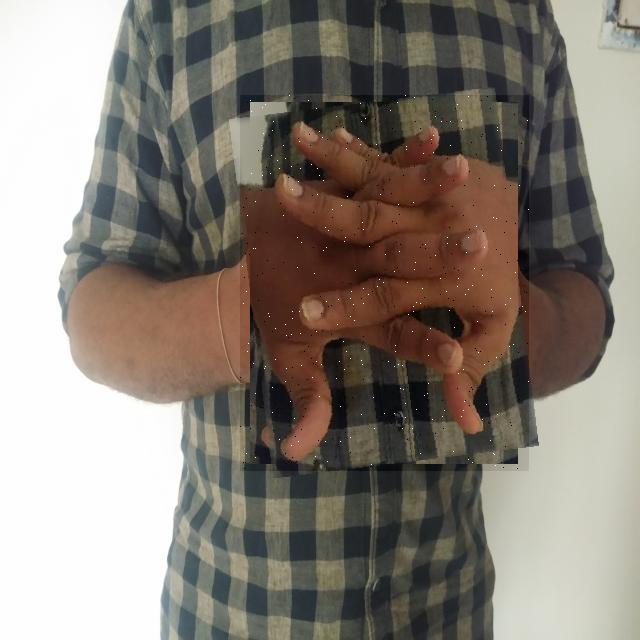W: (240, 95, 529, 471)
